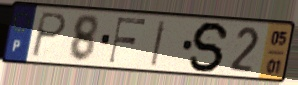2: (228, 25, 261, 75)
8: (67, 12, 101, 64)
F: (106, 16, 148, 65)
I: (149, 18, 169, 68)
P: (28, 10, 69, 60)
S: (187, 20, 232, 74)
